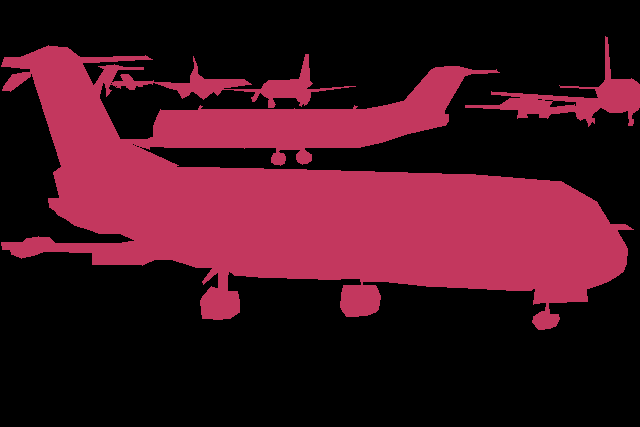Airplane: (1, 45, 633, 330), (120, 66, 499, 166), (491, 36, 640, 126), (222, 54, 356, 108), (2, 64, 144, 96), (150, 56, 251, 100), (465, 97, 576, 119), (111, 74, 154, 90)
